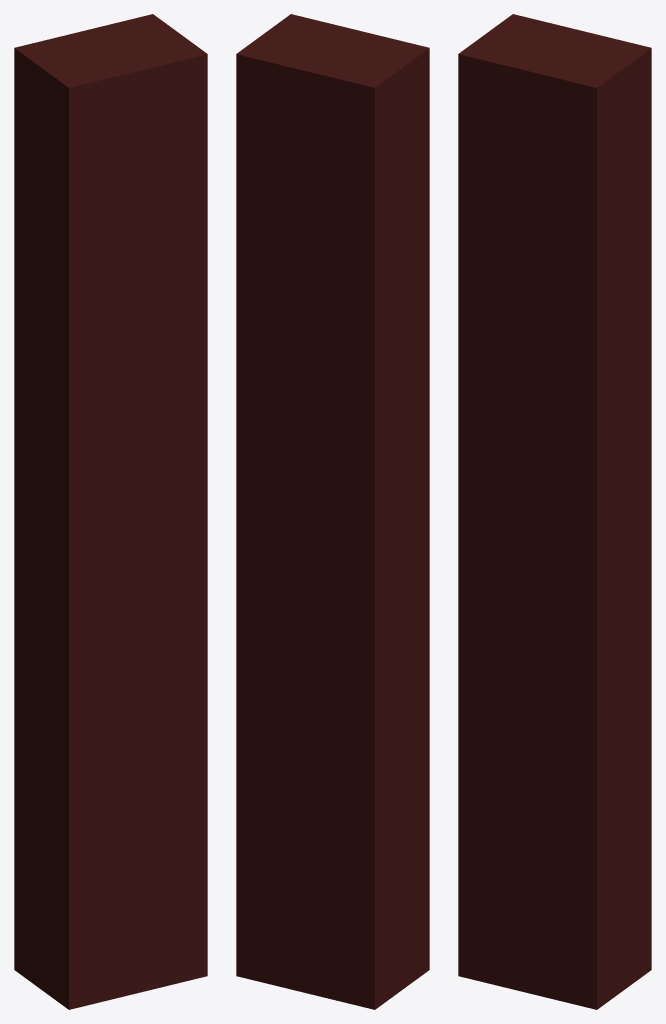
File: Itr_Obj_Monitor_LCD_Neck_02.FBX
3 views of the same model, side by side, from view 1: azimuth 30°, elevation 25°; view 2: azimuth 150°, elevation 25°; view 3: azimuth 330°, elevation 25° (orthographic).
Visible parts, largest first — view 1: Itr_Obj_Monitor_LCD_Neck_02; view 2: Itr_Obj_Monitor_LCD_Neck_02; view 3: Itr_Obj_Monitor_LCD_Neck_02.
Part boxes in pixels (<box>): Itr_Obj_Monitor_LCD_Neck_02: <box>14,14,207,1009</box>; Itr_Obj_Monitor_LCD_Neck_02: <box>236,14,429,1009</box>; Itr_Obj_Monitor_LCD_Neck_02: <box>458,14,651,1009</box>.
Bounding box in the file's own units: 5.01 × 31.78 × 3.42.
